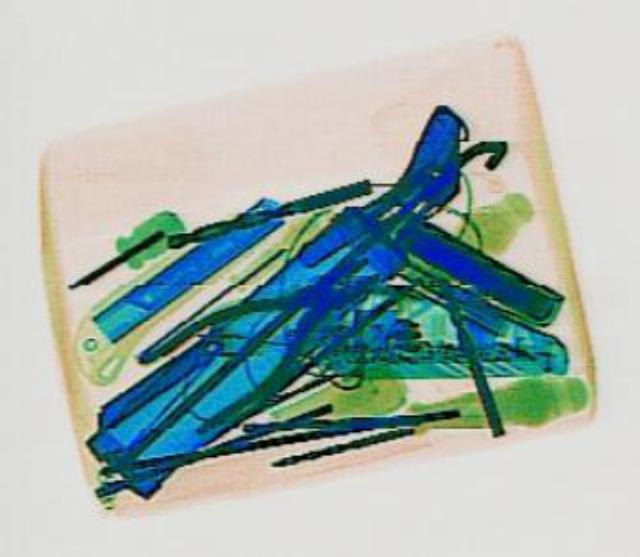Pliers: (124, 226, 410, 435)
